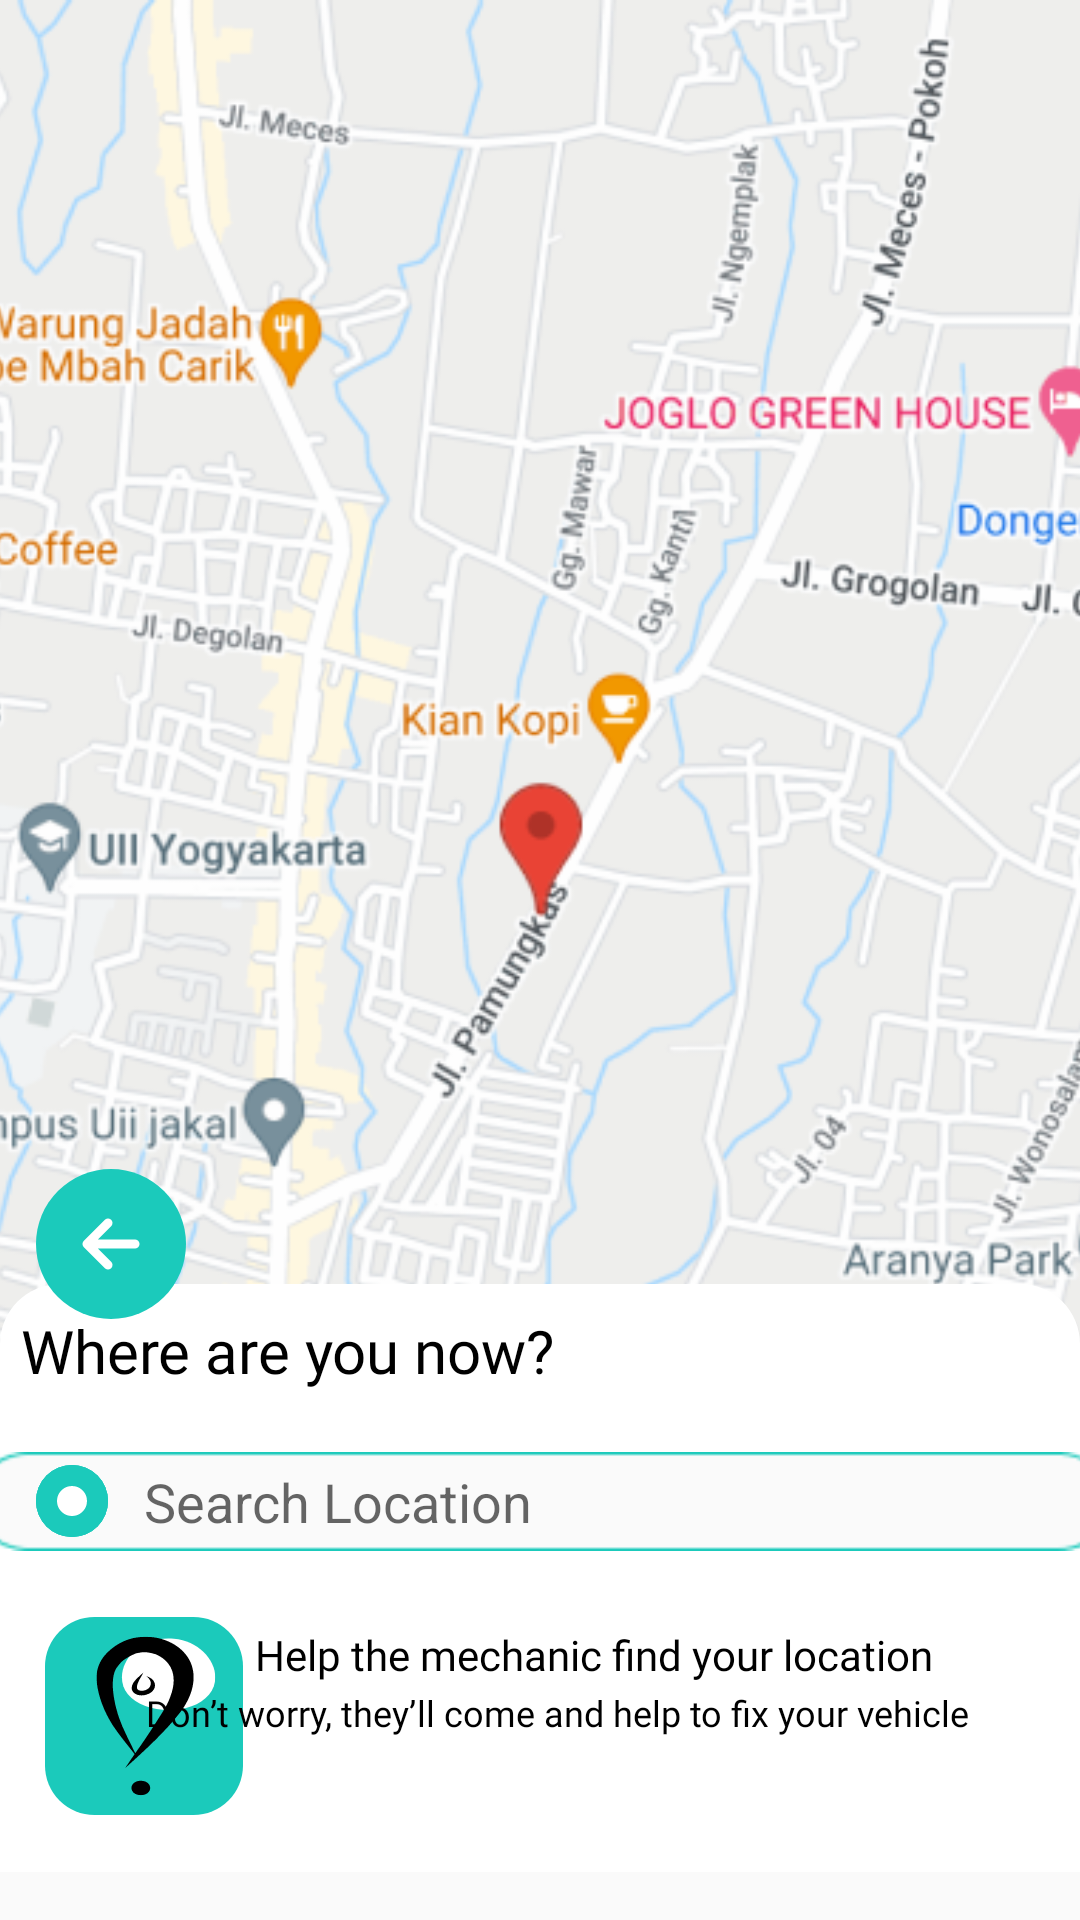

Screen size 1080 × 1920. Icon name, then its center in pixels as (x,y):
backfab: (111,1244)
mapicon: (146,1716)
